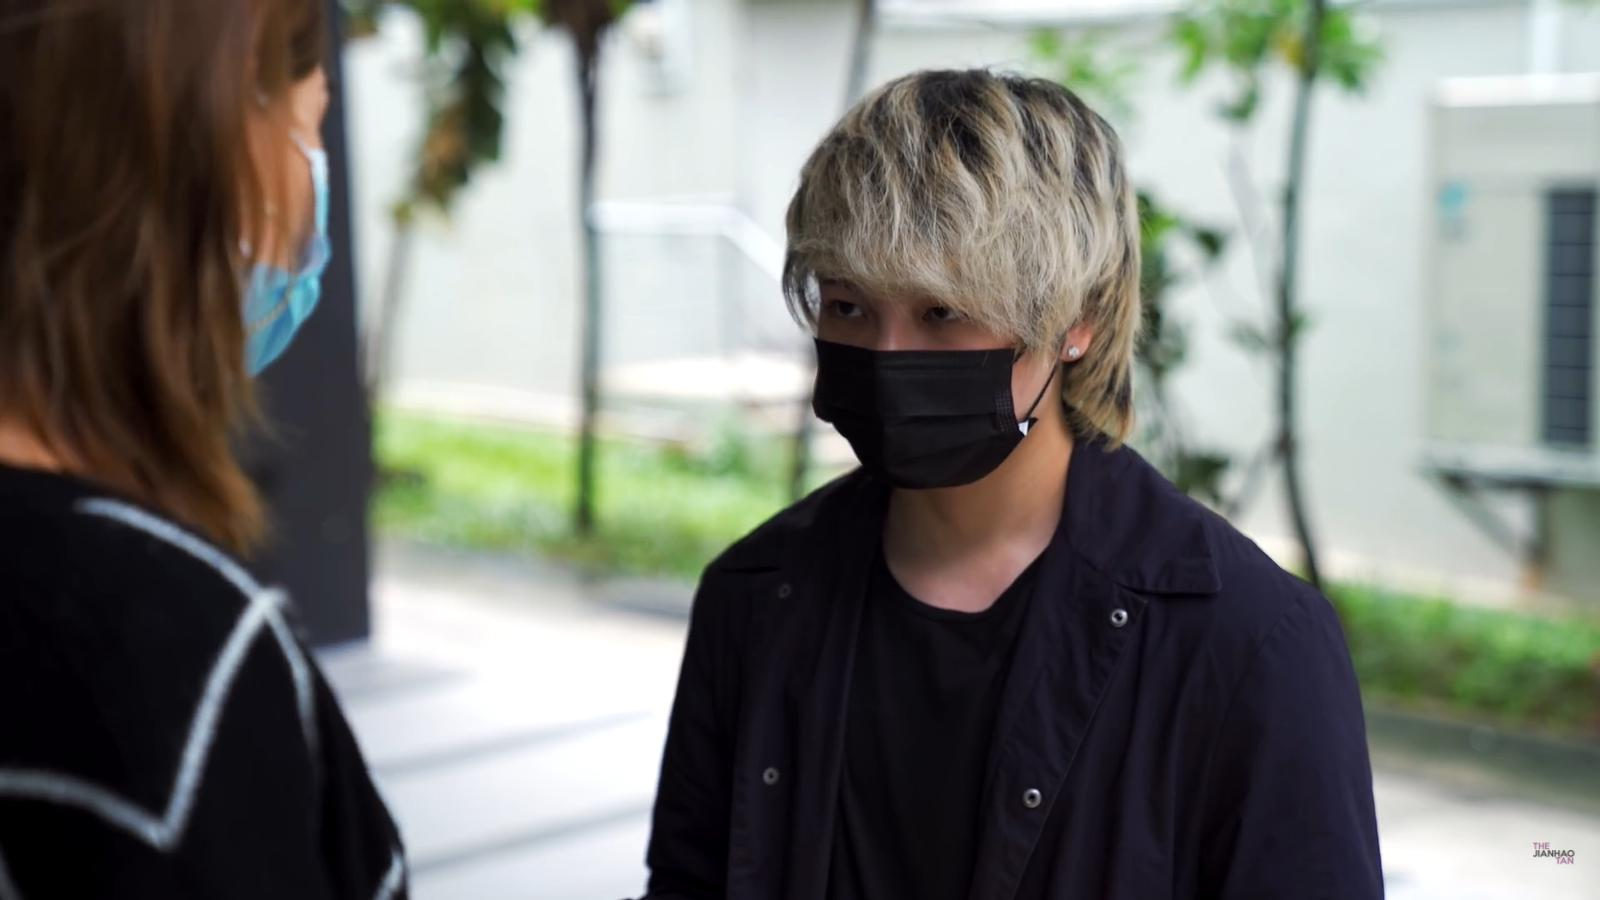with_mask: (826, 274, 1017, 445), (245, 91, 326, 331)
